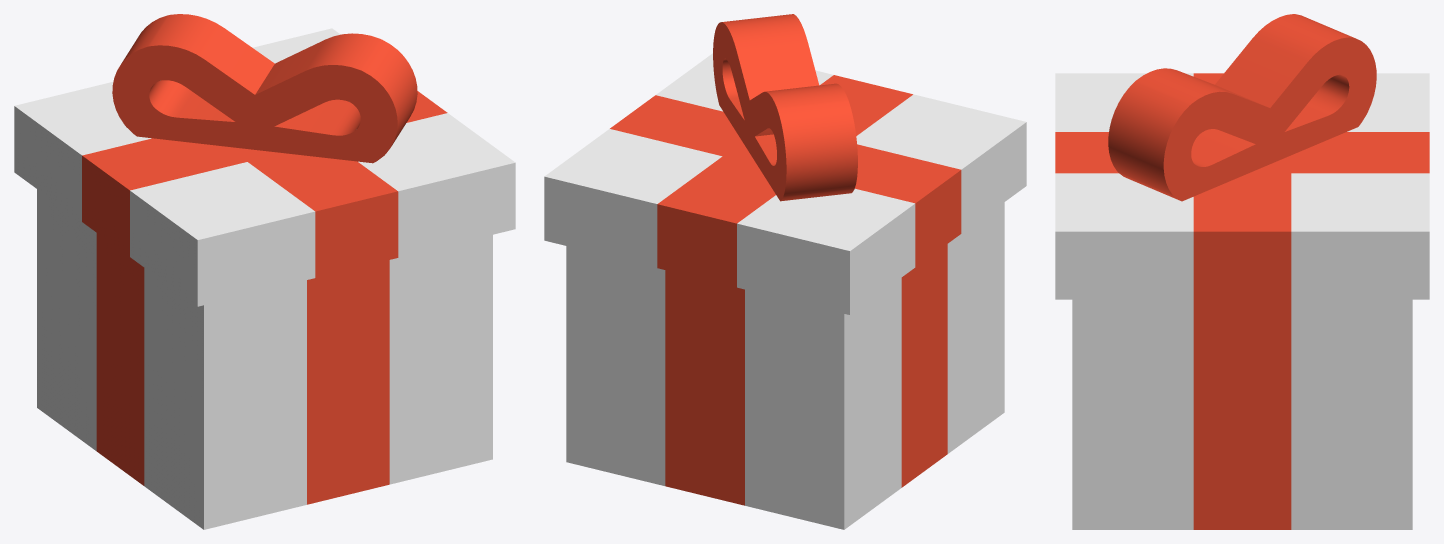
The model's file is present.fbx.
The picture shows the model from 3 angles, left to right: view 1: azimuth 30°, elevation 25°; view 2: azimuth 150°, elevation 25°; view 3: azimuth 270°, elevation 25°; orthographic projection. The views are drawn at different scales.
Parts seen in each view (by area): view 1: present, lid, tie; view 2: present, lid, tie; view 3: present, lid, tie.
Part boxes in pixels (x1,y1,x2,y2): present: [37, 189, 492, 529]; lid: [14, 28, 515, 306]; tie: [112, 14, 417, 163]; present: [566, 202, 1004, 529]; lid: [544, 53, 1026, 314]; tie: [713, 14, 857, 201]; present: [1072, 299, 1412, 529]; lid: [1055, 73, 1429, 299]; tie: [1108, 14, 1376, 201].
Size of the model in its own units: 3.73 by 4.41 by 3.73.
